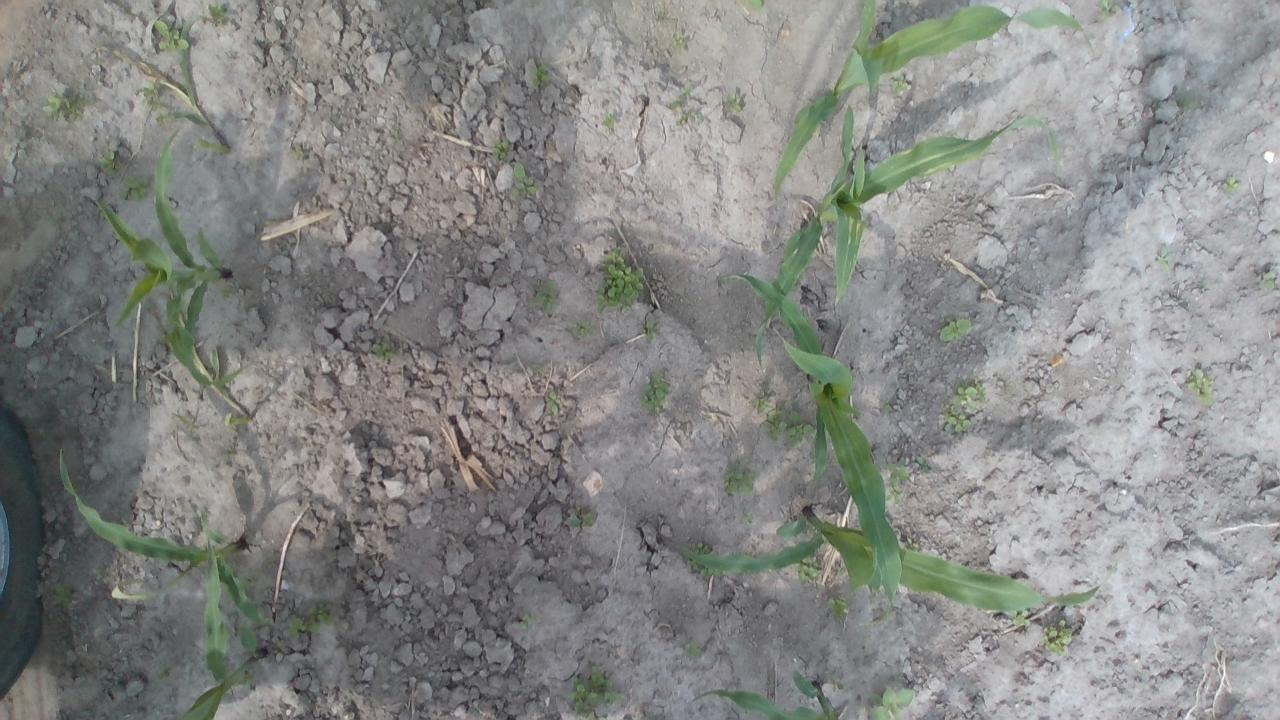Maize: (754, 114, 1062, 374), (772, 0, 1092, 212), (720, 271, 901, 608), (655, 500, 1118, 610), (87, 125, 251, 388), (56, 443, 266, 620), (182, 506, 268, 718), (134, 18, 228, 152), (690, 670, 840, 720)
Weeds: (598, 250, 646, 310), (571, 667, 617, 717), (286, 602, 338, 636), (867, 686, 917, 720), (644, 371, 672, 413), (1042, 618, 1074, 654), (44, 89, 83, 118), (155, 18, 190, 50), (721, 466, 758, 494), (888, 463, 913, 503), (1188, 367, 1215, 403), (954, 381, 987, 410), (788, 408, 816, 442), (530, 280, 559, 311), (512, 161, 536, 198), (205, 0, 235, 29), (938, 316, 968, 342), (50, 582, 80, 608), (764, 404, 786, 437), (125, 175, 152, 201), (942, 409, 972, 432), (1094, 0, 1122, 23), (529, 62, 552, 86), (800, 556, 822, 578), (670, 87, 691, 110), (830, 594, 850, 618), (889, 72, 910, 94), (570, 508, 594, 527), (1154, 245, 1172, 269), (752, 390, 771, 412), (372, 336, 396, 353), (493, 142, 515, 160), (549, 390, 563, 418), (1258, 270, 1277, 290), (601, 114, 620, 134), (225, 412, 246, 429), (724, 92, 741, 111), (876, 602, 892, 622), (674, 32, 688, 54), (1012, 609, 1028, 628), (575, 321, 595, 336), (644, 320, 660, 338), (105, 154, 122, 170), (1222, 175, 1240, 190), (689, 646, 704, 660), (830, 678, 846, 691), (290, 143, 303, 159), (913, 455, 928, 468), (677, 112, 690, 126), (160, 667, 173, 681), (696, 542, 710, 554), (1181, 97, 1192, 111), (882, 402, 894, 414), (687, 560, 699, 570), (520, 614, 528, 629), (750, 0, 762, 9)
